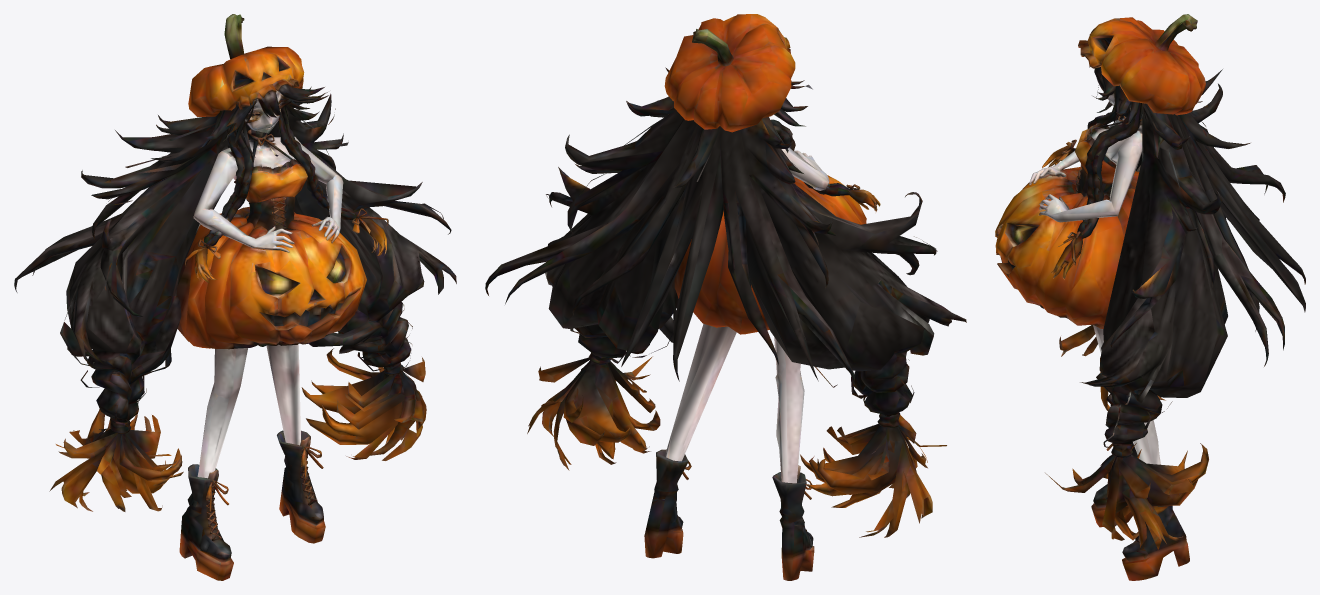
The model's file is pumpkin-girl.glb.
3 views of the same model, side by side, from view 1: azimuth 30°, elevation 25°; view 2: azimuth 150°, elevation 25°; view 3: azimuth 270°, elevation 25° (orthographic). The views are drawn at different scales.
Visible parts, largest first — view 1: tripo_node_a7a4ba34-5350-4129-9f3a-0f529541ad01; view 2: tripo_node_a7a4ba34-5350-4129-9f3a-0f529541ad01; view 3: tripo_node_a7a4ba34-5350-4129-9f3a-0f529541ad01.
Boxes of the visible parts, left/top/right/bottom form: tripo_node_a7a4ba34-5350-4129-9f3a-0f529541ad01: left=14, top=14, right=456, bottom=580; tripo_node_a7a4ba34-5350-4129-9f3a-0f529541ad01: left=485, top=14, right=966, bottom=580; tripo_node_a7a4ba34-5350-4129-9f3a-0f529541ad01: left=995, top=14, right=1305, bottom=580.
Bounding box in the file's own units: 0.7622 × 0.9995 × 0.5259.
1 material, 1 textured.
